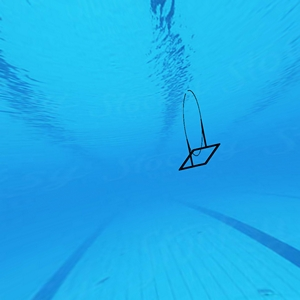circle: (172, 88, 226, 172)
